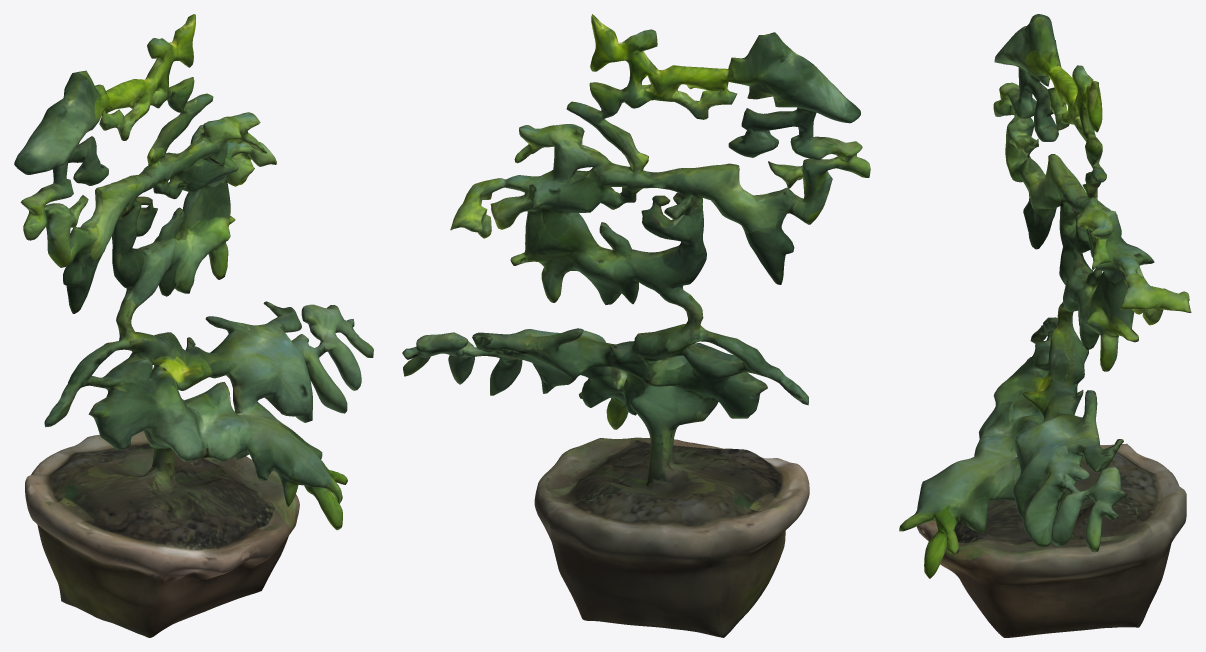
File: Gardenology_org_IMG_8103_qsbg11mar_removebg_previe_0610223549.fbx
3 views of the same model, side by side, from view 1: azimuth 30°, elevation 25°; view 2: azimuth 150°, elevation 25°; view 3: azimuth 270°, elevation 25° (orthographic). The views are drawn at different scales.
Parts seen in each view (by area): view 1: Mesh_0; view 2: Mesh_0; view 3: Mesh_0.
Part boxes in pixels (x1,y1,x2,y2): Mesh_0: [14, 14, 373, 637]; Mesh_0: [402, 14, 870, 637]; Mesh_0: [899, 14, 1191, 637].
Size of the model in its own units: 88.64 by 120 by 56.66.
Materials: 1 (1 with a texture image).
